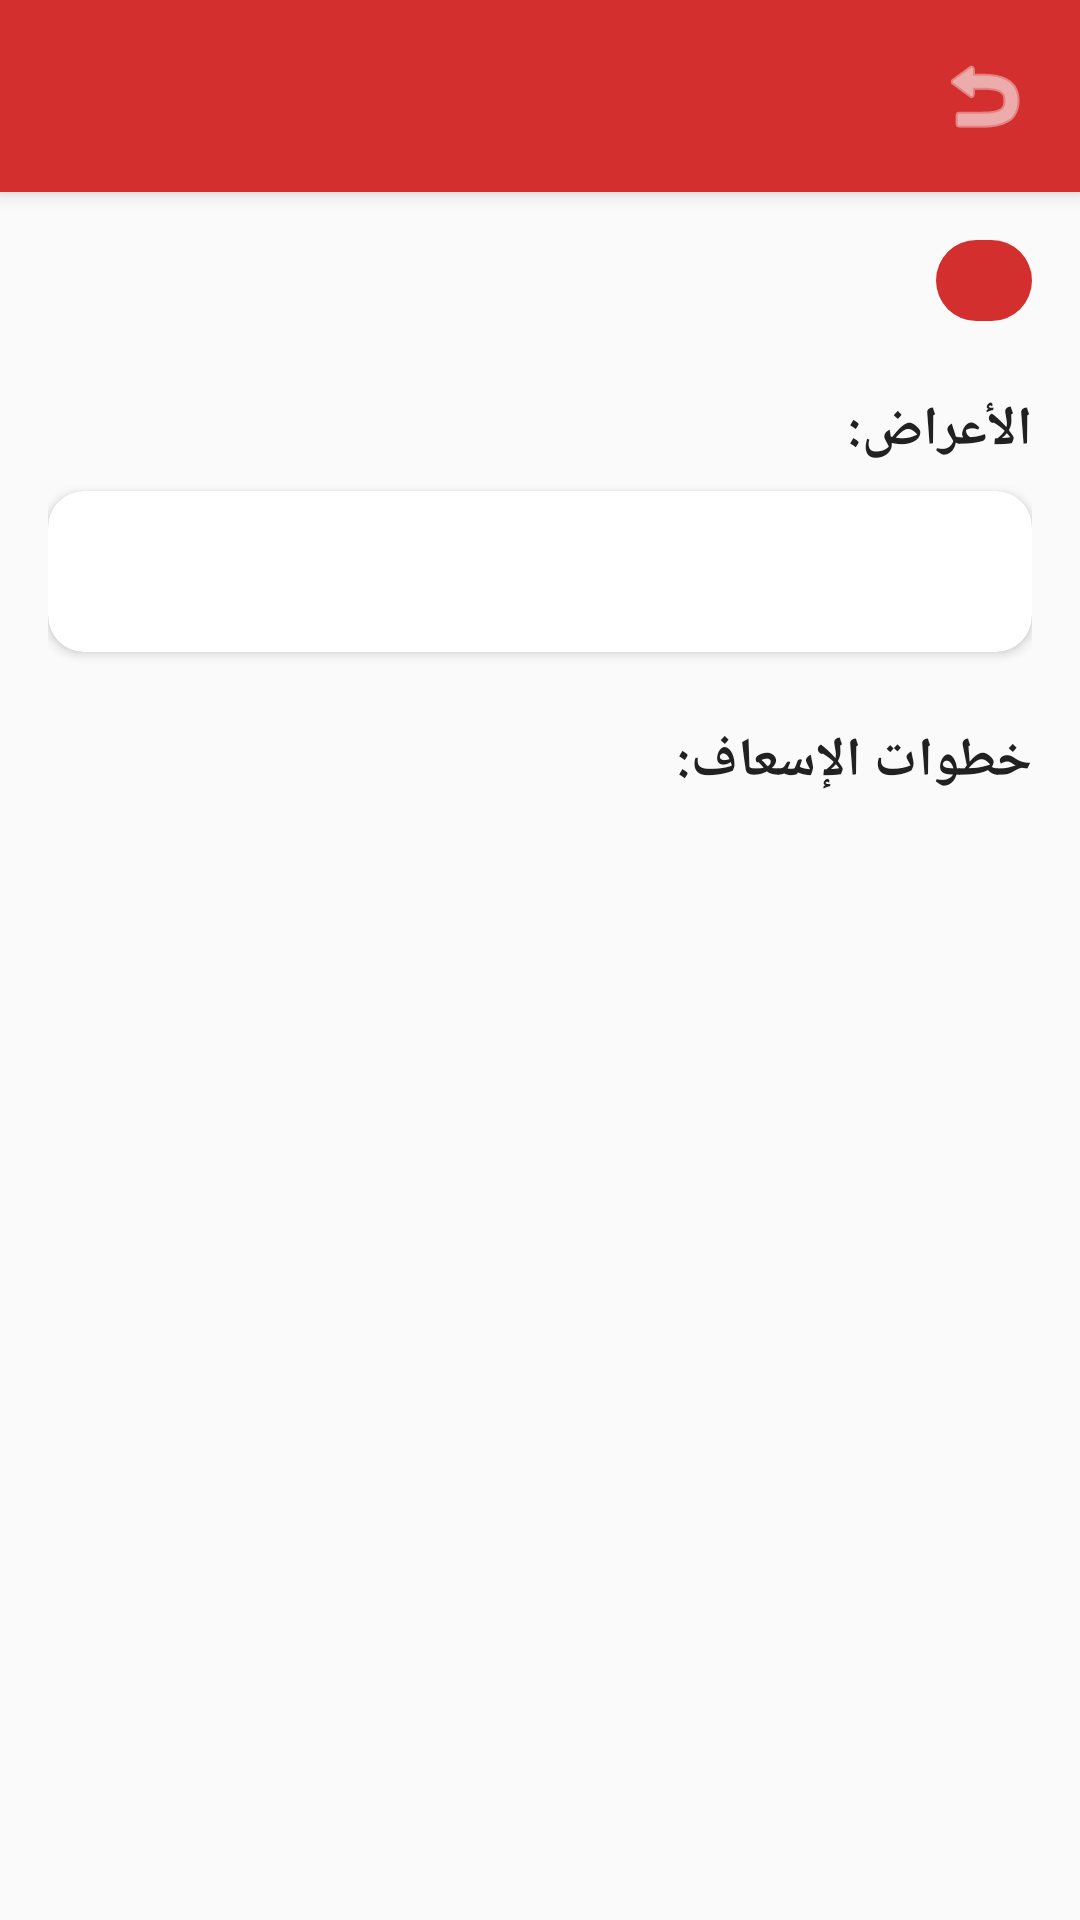

Named icons in this screenshot (1080*1920) and their centers, (x=x, y=y):
رجوع: (x=985, y=96)
